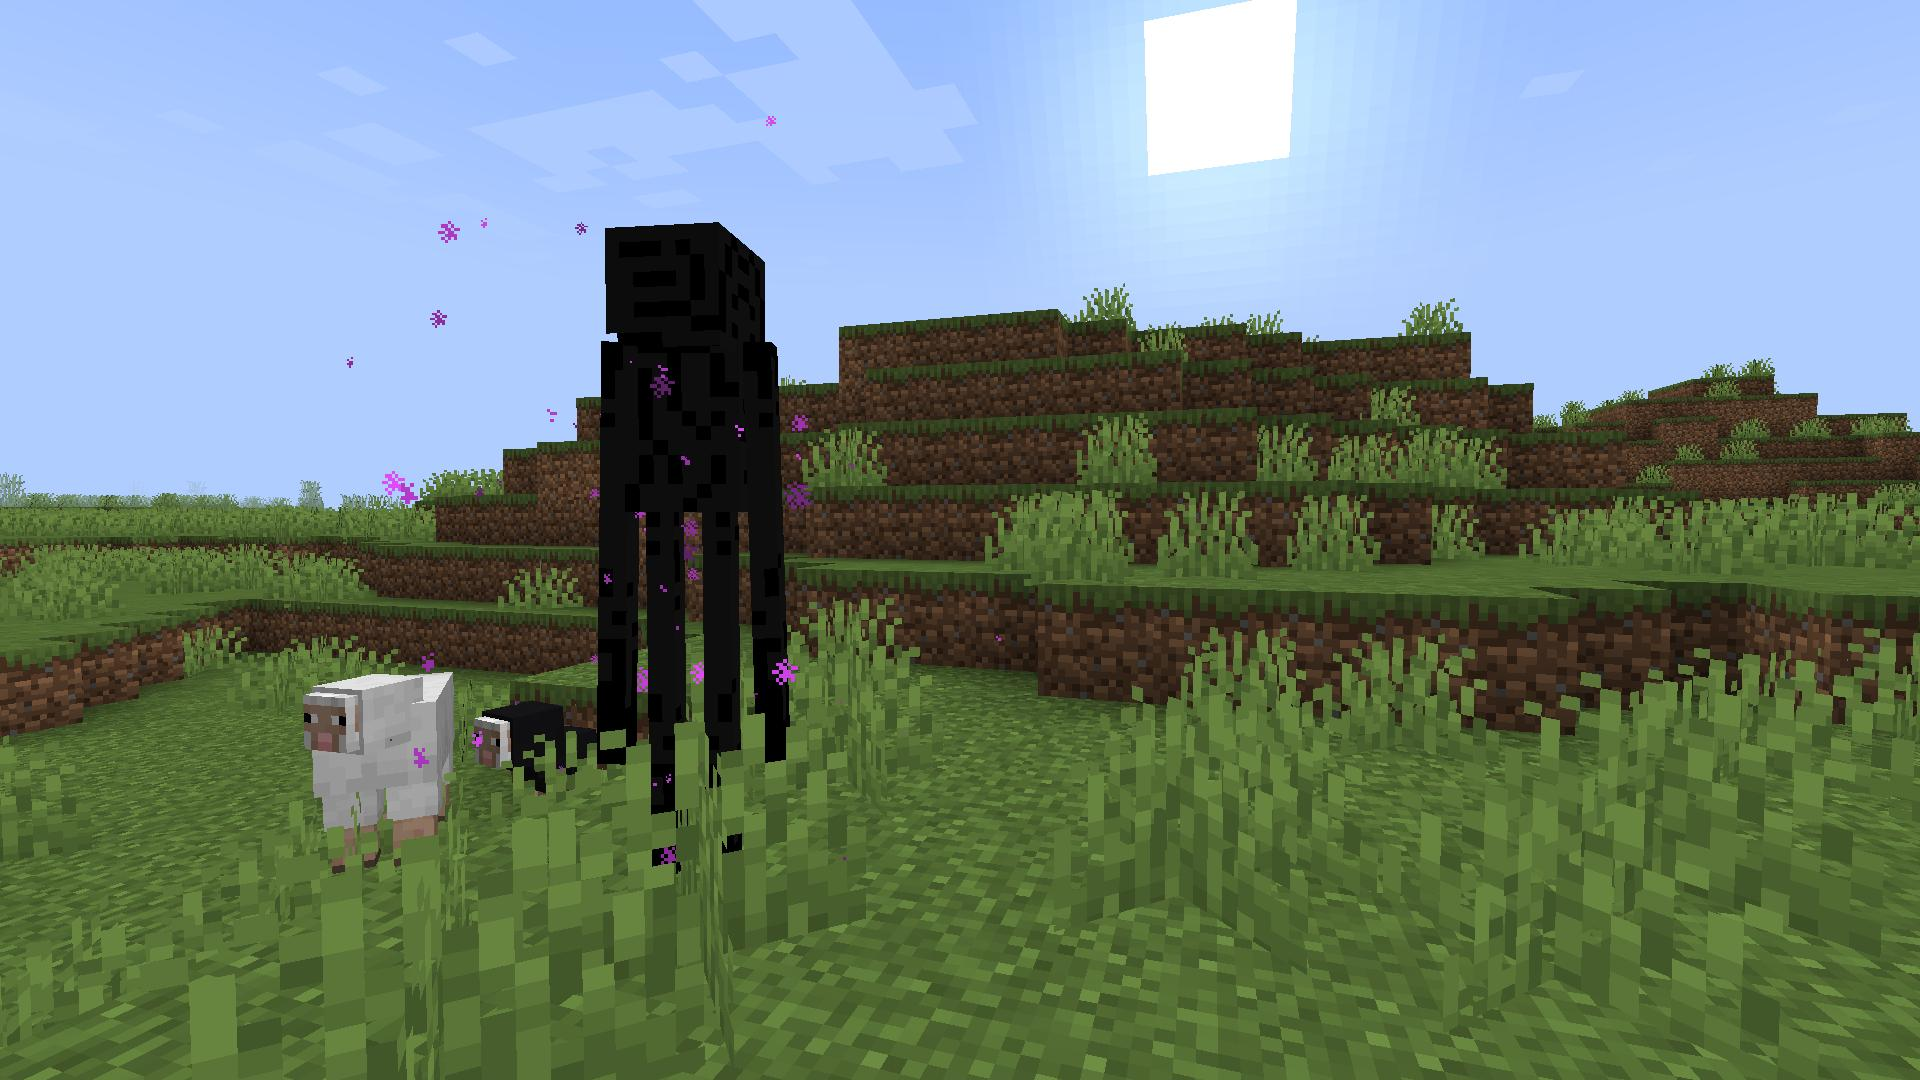enderman: (576, 208, 799, 881)
sheep: (302, 665, 464, 880), (471, 695, 607, 819)
